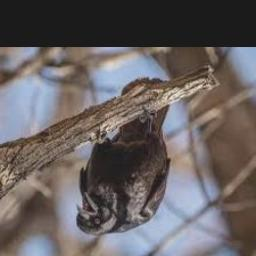Crow: (75, 77, 172, 236)
